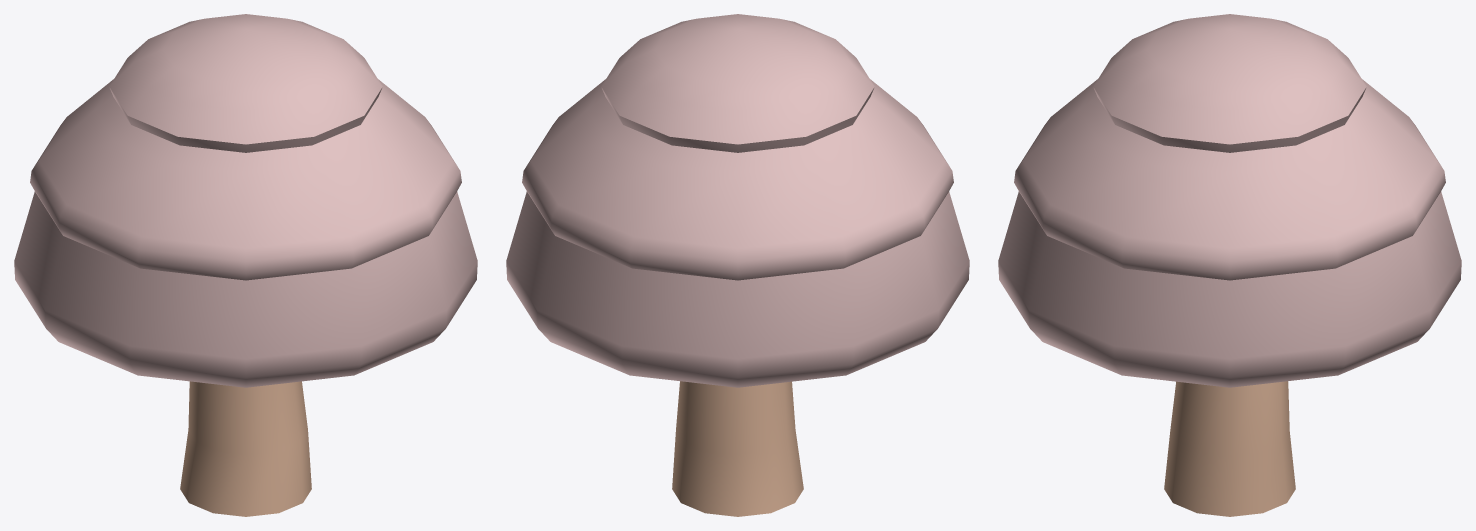
The model's file is Tree_2.fbx.
3 views of the same model, side by side, from view 1: azimuth 30°, elevation 25°; view 2: azimuth 150°, elevation 25°; view 3: azimuth 270°, elevation 25° (orthographic).
Visible parts, largest first — view 1: Tree_2, Tree_2.001; view 2: Tree_2, Tree_2.001; view 3: Tree_2, Tree_2.001.
Part boxes in pixels (x1,y1,x2,y2): Tree_2: [14, 14, 477, 387]; Tree_2.001: [180, 381, 311, 516]; Tree_2: [506, 14, 969, 387]; Tree_2.001: [672, 381, 803, 516]; Tree_2: [998, 14, 1461, 387]; Tree_2.001: [1164, 381, 1295, 516].
Size of the model in its own units: 257 by 281 by 257.
